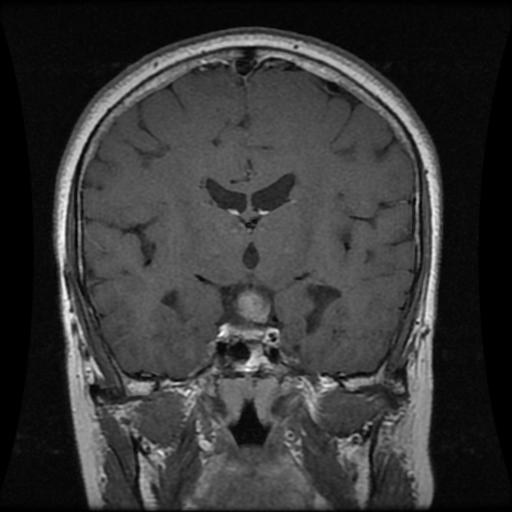Pituirity_tumour: (235, 286, 271, 322)
